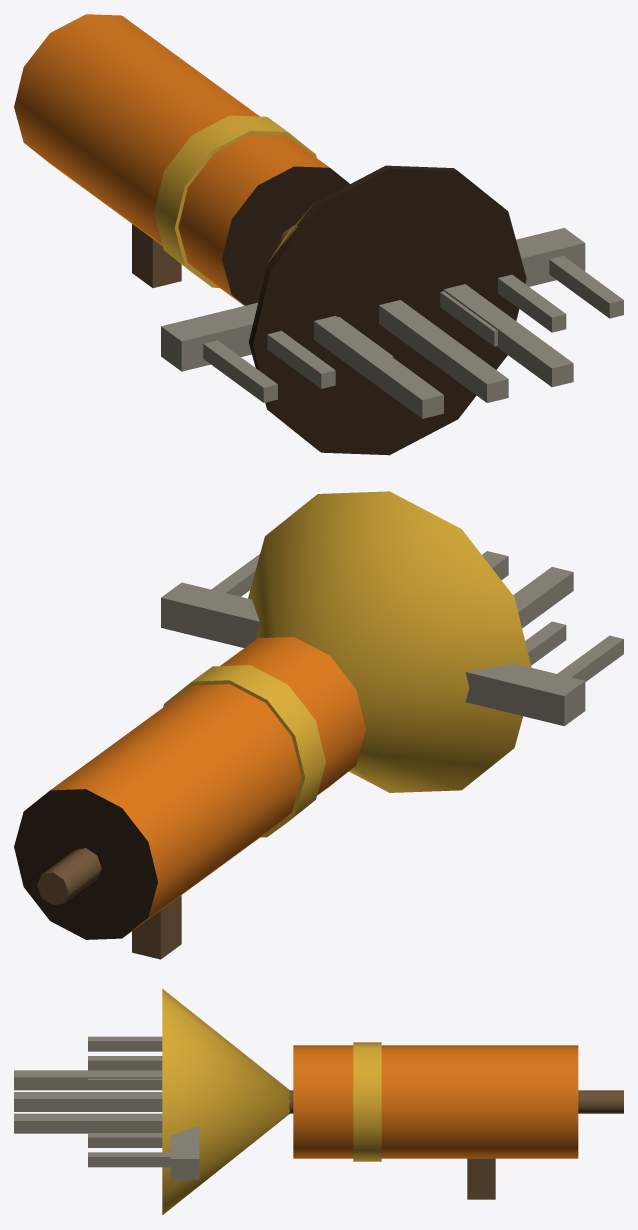
The model's file is tools.glb.
3 views of the same model, one above another, from view 1: azimuth 30°, elevation 25°; view 2: azimuth 150°, elevation 25°; view 3: azimuth 270°, elevation 25° (orthographic). The views are drawn at different scales.
Visible parts, largest first — view 1: tool_vacuum, tool_rake, tool_fork; view 2: tool_vacuum, tool_rake, tool_fork; view 3: tool_vacuum, tool_fork, tool_rake.
Boxes of the visible parts, x1,y1,x2,y2 form: tool_vacuum: (14, 14, 526, 455); tool_rake: (161, 228, 623, 402); tool_fork: (278, 225, 573, 418); tool_vacuum: (14, 491, 531, 959); tool_rake: (161, 554, 623, 726); tool_fork: (37, 551, 573, 905); tool_vacuum: (162, 989, 578, 1214); tool_fork: (14, 1070, 623, 1133); tool_rake: (88, 1036, 199, 1179).
Size of the model in its own units: 0.56 by 0.4 by 1.07.
